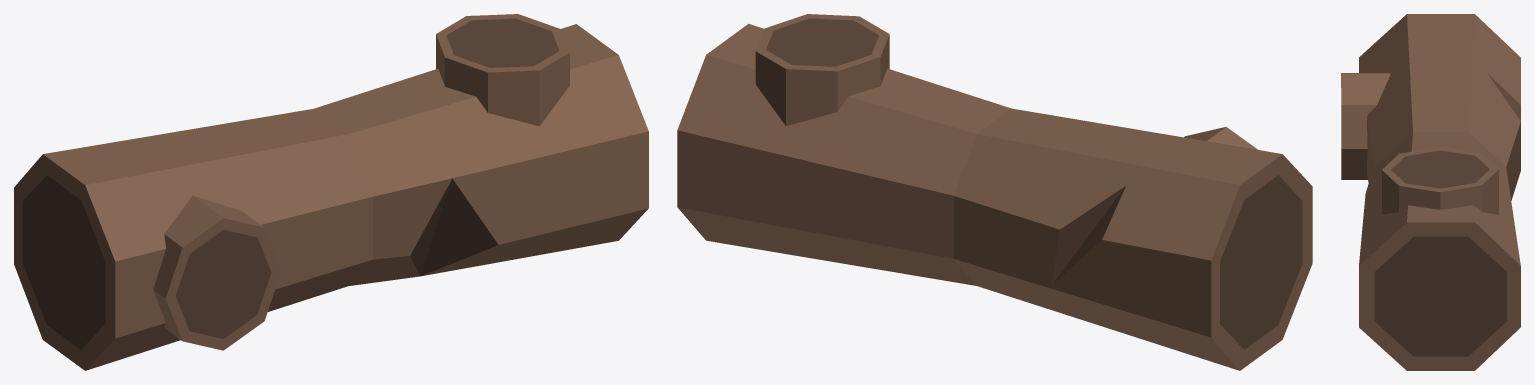
Rendered from Log_7_Light_Brown.fbx.
3 renders of one model, left to right at view 1: azimuth 30°, elevation 25°; view 2: azimuth 150°, elevation 25°; view 3: azimuth 270°, elevation 25°, orthographic. The views are drawn at different scales.
Visible parts, largest first — view 1: Log_7_Light_Brown; view 2: Log_7_Light_Brown; view 3: Log_7_Light_Brown.
Part boxes in pixels (x1,y1,x2,y2): Log_7_Light_Brown: [14, 14, 648, 370]; Log_7_Light_Brown: [677, 14, 1312, 370]; Log_7_Light_Brown: [1341, 14, 1520, 370].
Bounding box in the file's own units: 250 × 92.12 × 91.13.
